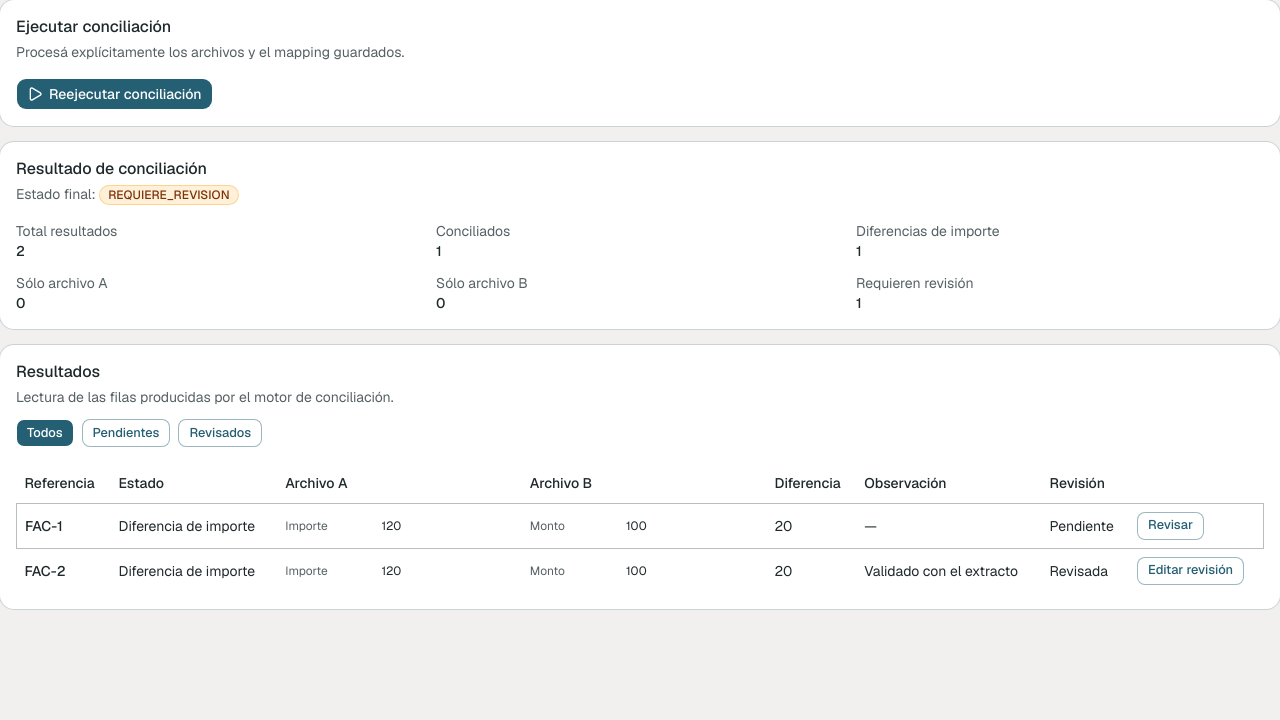
Test: ConciliationResultsPanel › identifica pendientes y revisados mediante filtros explícitos
Click the button "Pendientes". click: (126, 433)
box: [82,419,170,447]
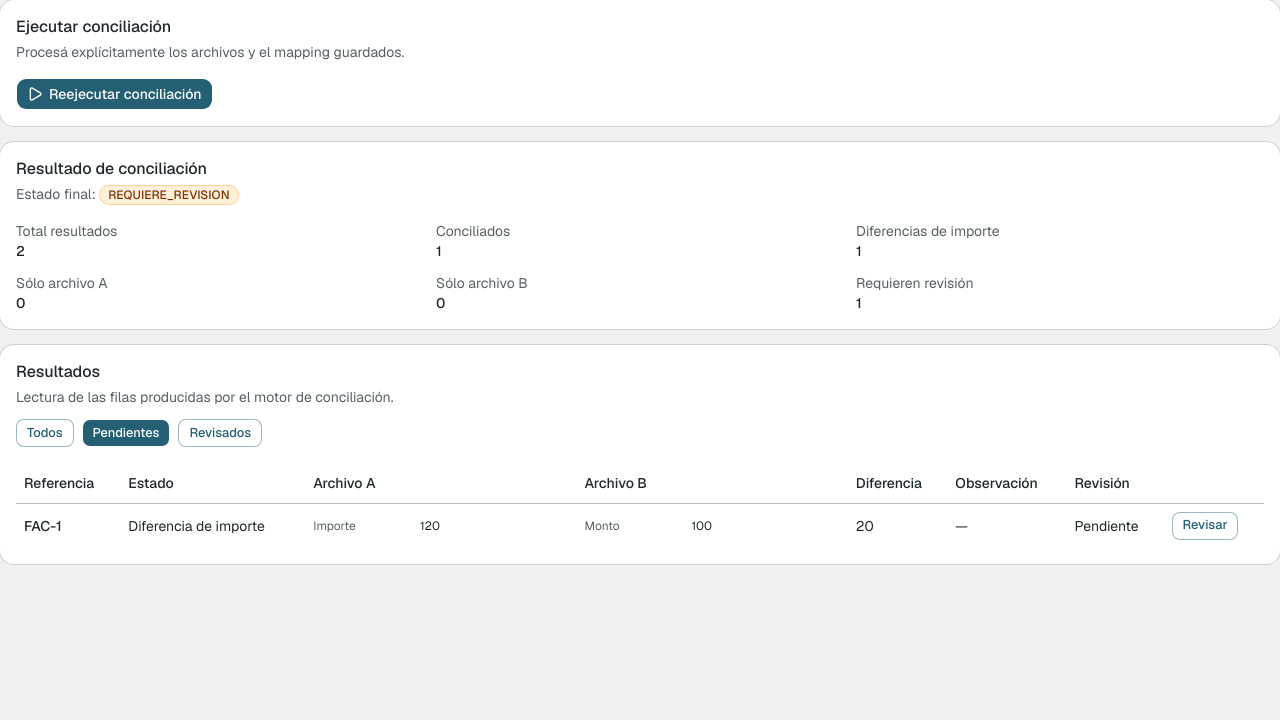
expect the text "FAC-1" is shown: met, box [16,503,120,548]
expect the text "FAC-2" is gone: met
Click the button "Revisados". click: (220, 433)
box: [178,419,262,447]
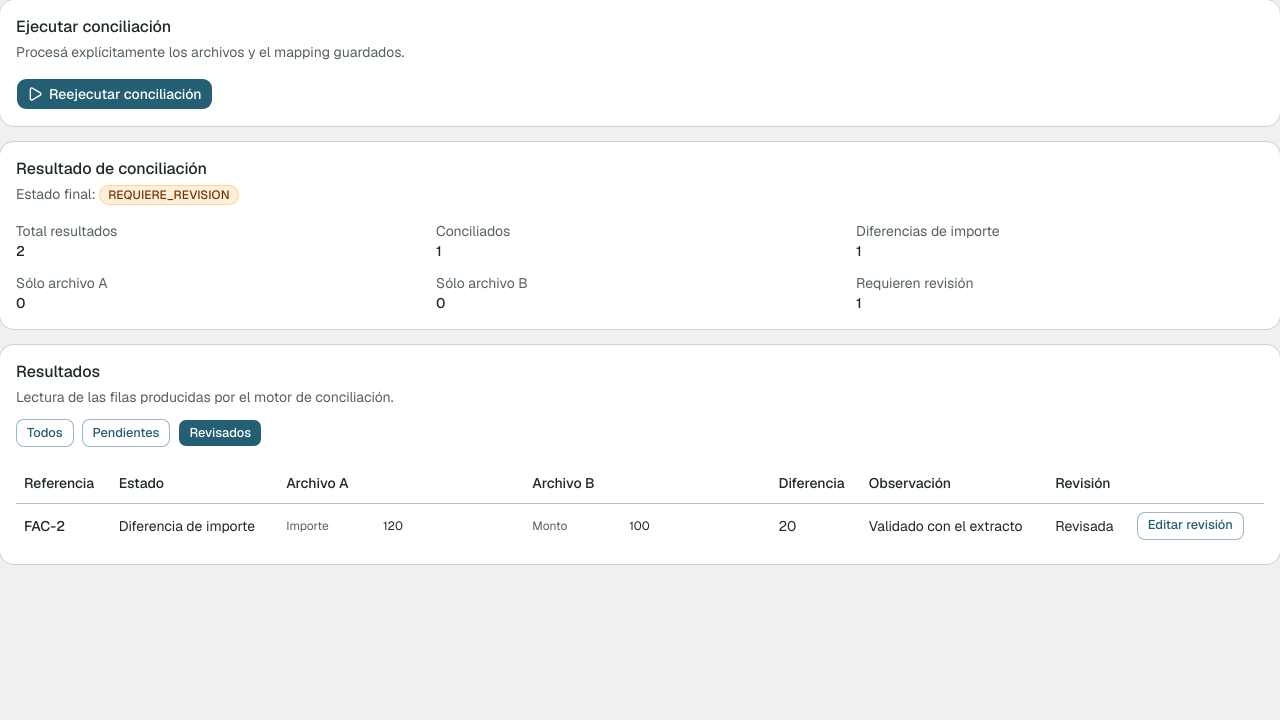
expect the text "FAC-1" is gone: met
expect the text "FAC-2" is shown: met, box [16,503,111,548]
expect the text "Validado con el extracto" is shown: met, box [869,516,1022,534]
